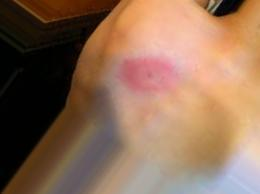Tick: (116, 51, 182, 97)
